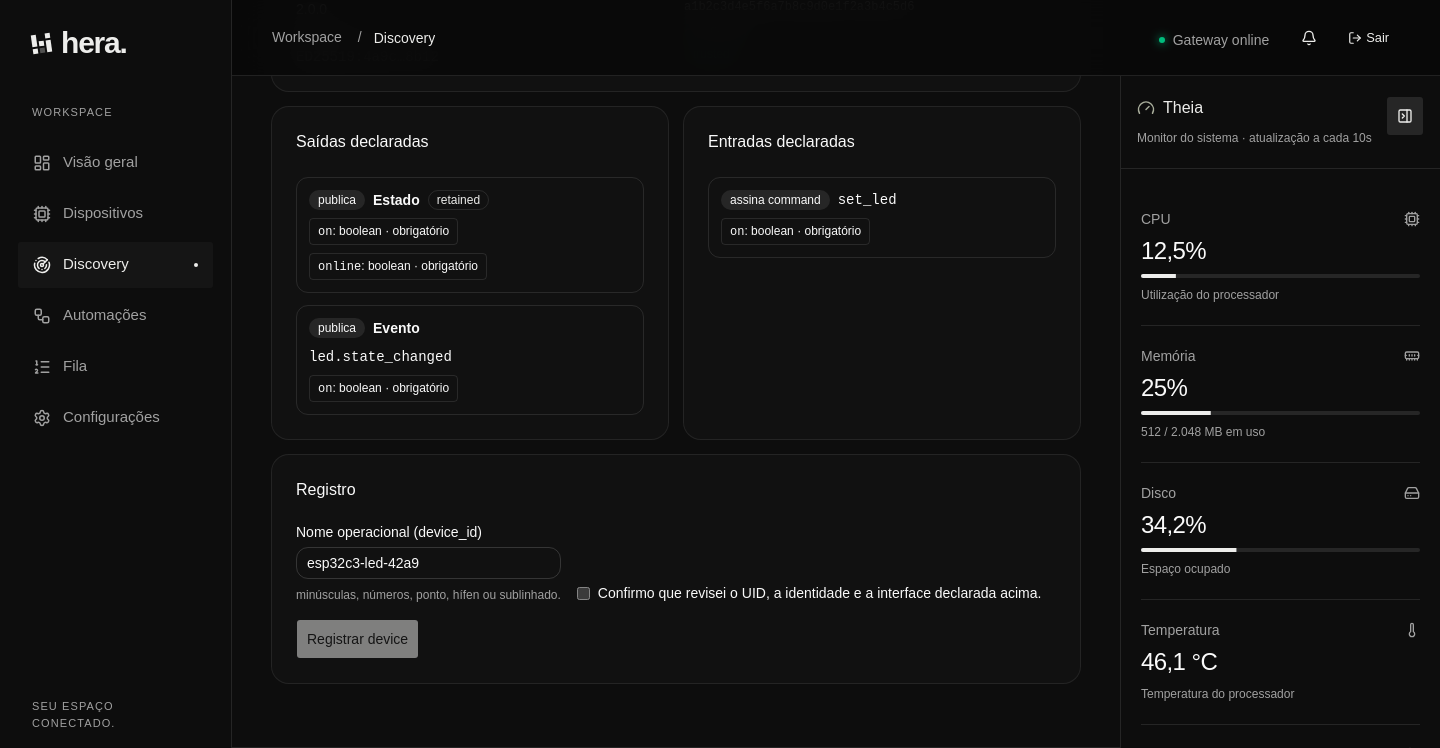
Scenario: refreshes registry, status and discovery after registration and caches the returned device
The width and height of the screenshot is (1440, 748).
(page scrolled)
Click the checkbox: (583, 594) [577, 587, 590, 600]
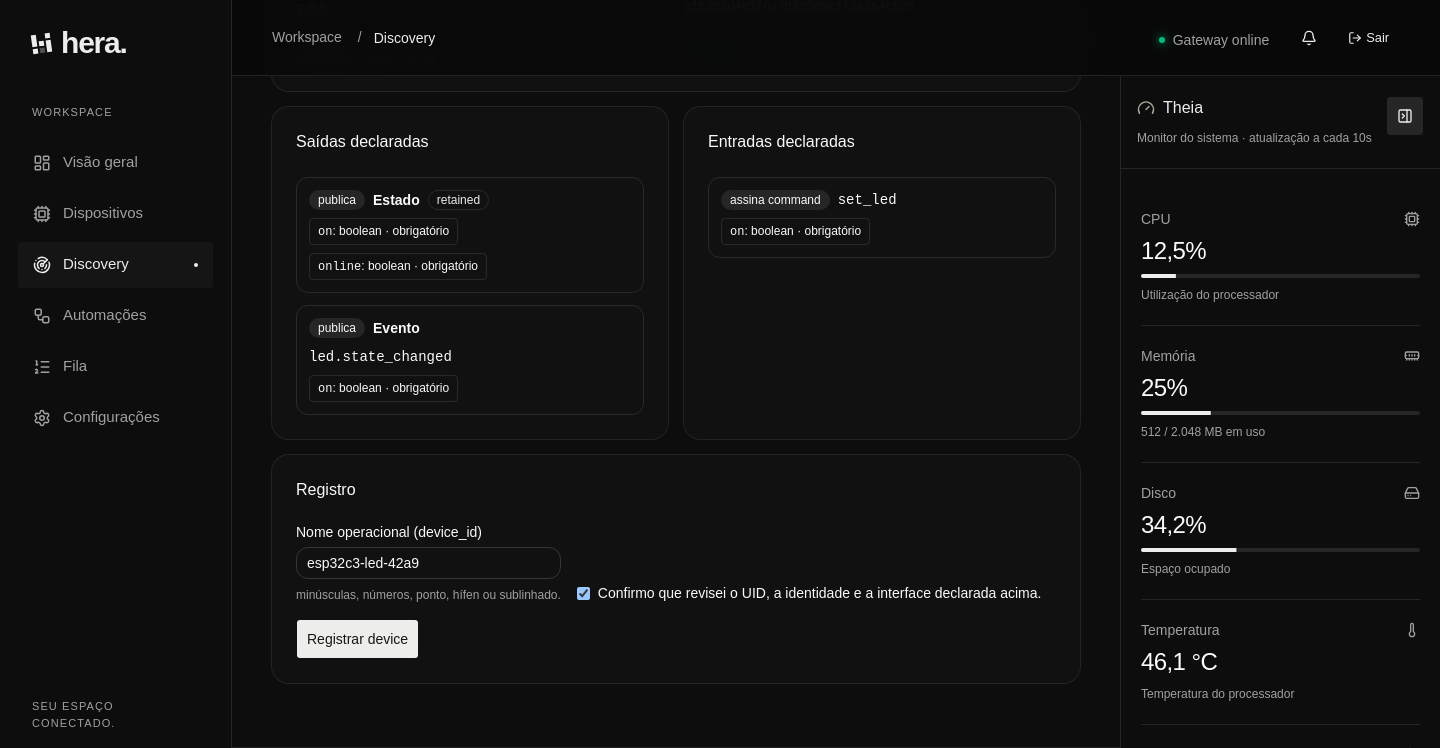
Click the button "Registrar device": (358, 639) [296, 619, 419, 659]
(page scrolled)
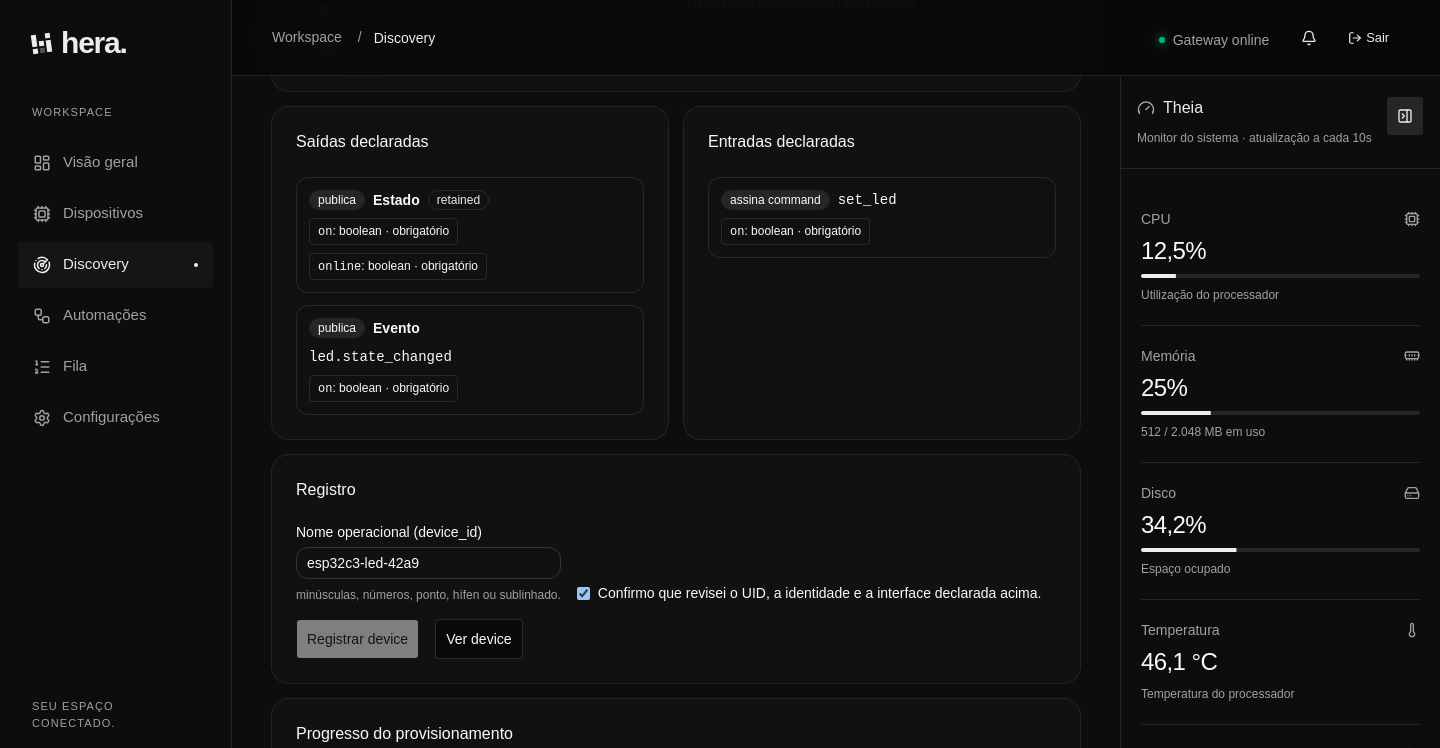
Expected: the text "Progresso do provisionamento" is shown, [296, 725, 513, 742]
Click the button "Ver device": (479, 639) [435, 619, 523, 659]
(page scrolled)
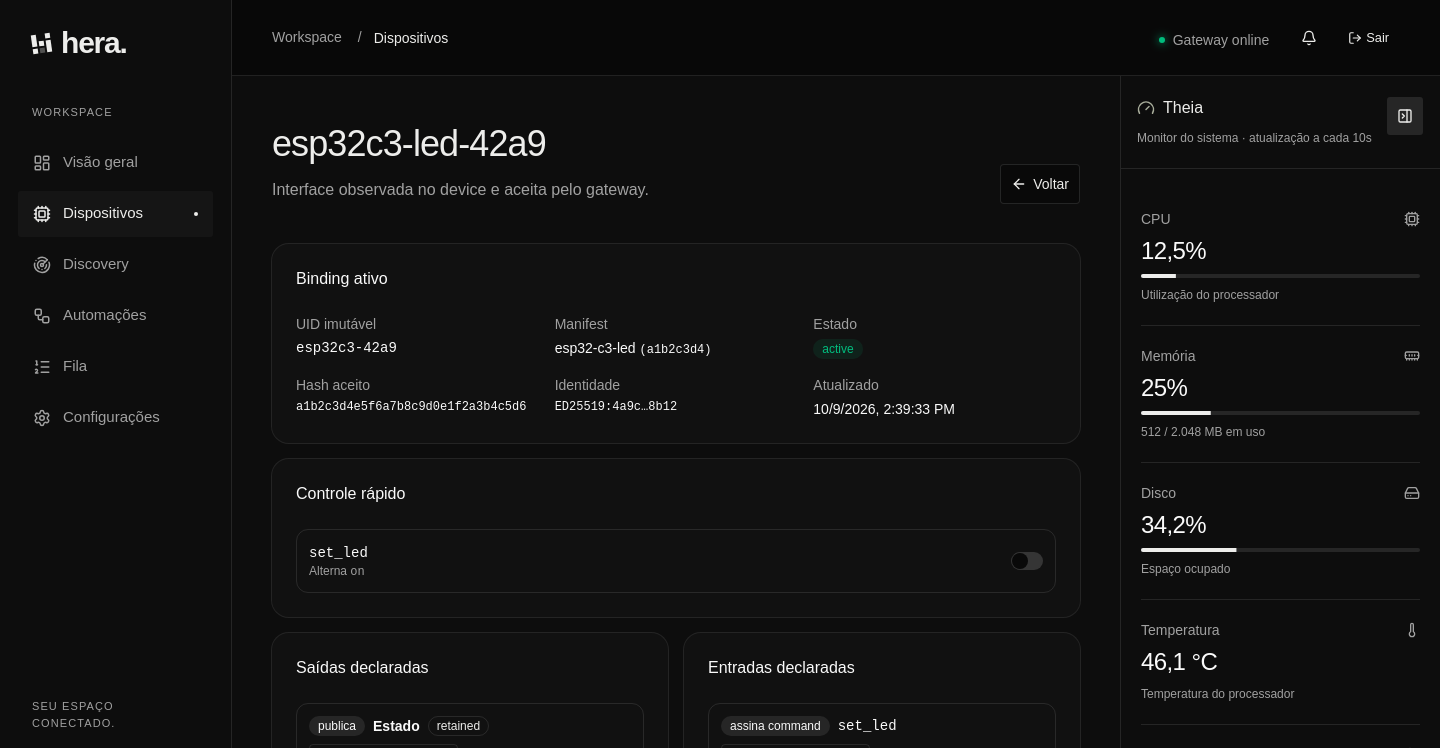
Expected: the text "Binding ativo" is shown, [296, 270, 388, 287]
